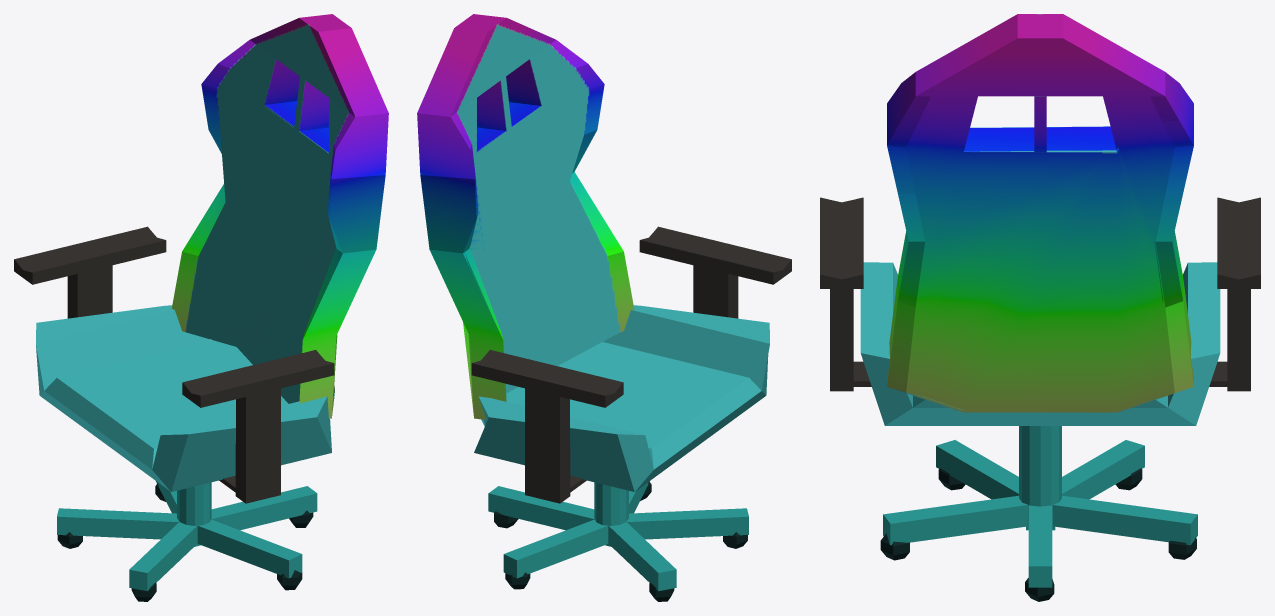
File: chairDiamond.fbx
The picture shows the model from 3 angles, left to right: view 1: azimuth 30°, elevation 25°; view 2: azimuth 150°, elevation 25°; view 3: azimuth 270°, elevation 25°; orthographic projection. The views are drawn at different scales.
Parts seen in each view (by area): view 1: Chair; view 2: Chair; view 3: Chair.
Boxes of the visible parts, <box> form: Chair: <box>14,14,388,601</box>; Chair: <box>417,14,791,601</box>; Chair: <box>820,14,1260,601</box>.
Size of the model in its own units: 2.21 by 2.87 by 4.25.
